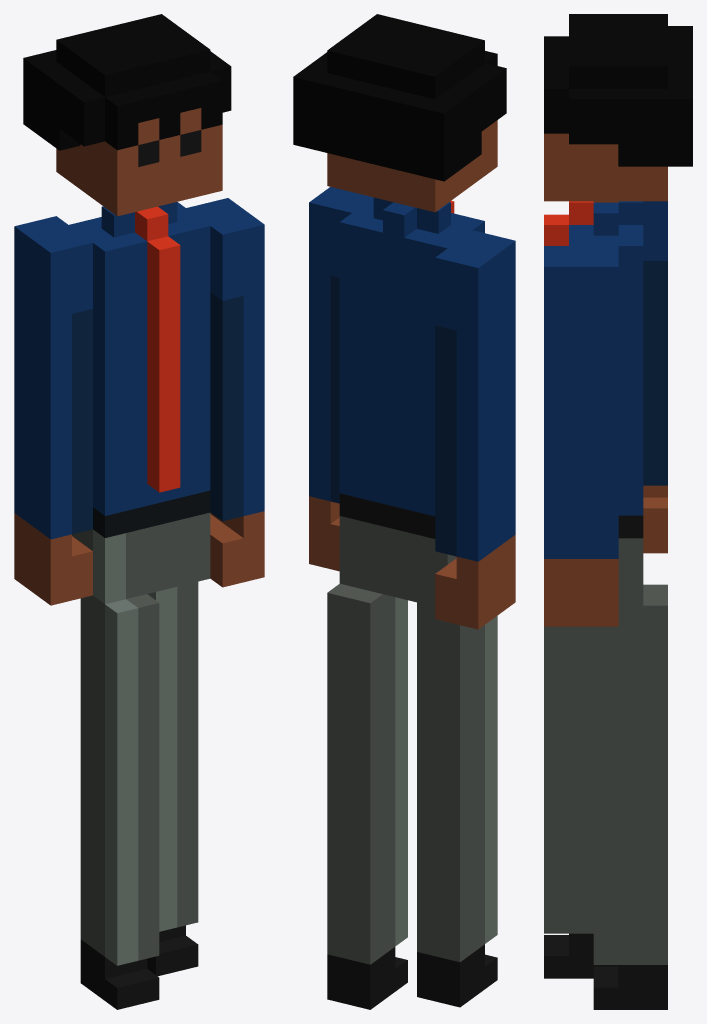
Rendered from Tony_Ethn3_Walking2.obj.
The picture shows the model from 3 angles, left to right: view 1: azimuth 30°, elevation 25°; view 2: azimuth 150°, elevation 25°; view 3: azimuth 270°, elevation 25°; orthographic projection. The views are drawn at different scales.
Parts seen in each view (by area): view 1: Tony_Ethn3_Walking2; view 2: Tony_Ethn3_Walking2; view 3: Tony_Ethn3_Walking2.
Boxes of the visible parts, x1,y1,x2,y2 form: Tony_Ethn3_Walking2: [14, 14, 264, 1009]; Tony_Ethn3_Walking2: [293, 14, 515, 1009]; Tony_Ethn3_Walking2: [544, 14, 692, 1009].
Bounding box in the file's own units: 9 × 42 × 6.
1 material, 1 textured.
